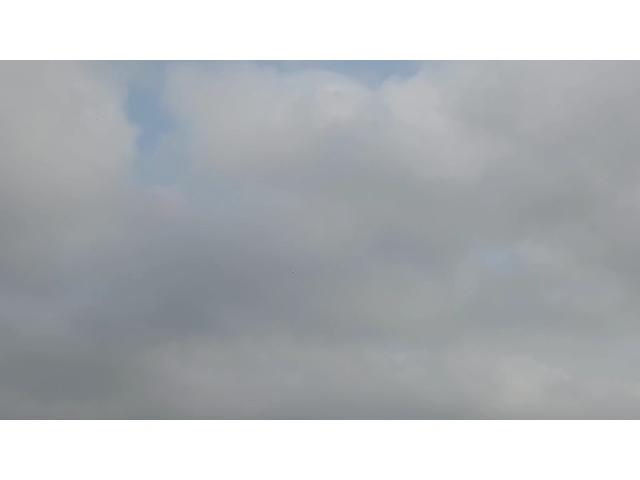Anti-Drone: (292, 271, 296, 273)
